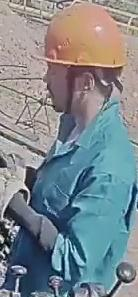gloves: (0, 171, 33, 223)
helmet: (31, 0, 128, 68)
vest: (4, 97, 137, 296)
